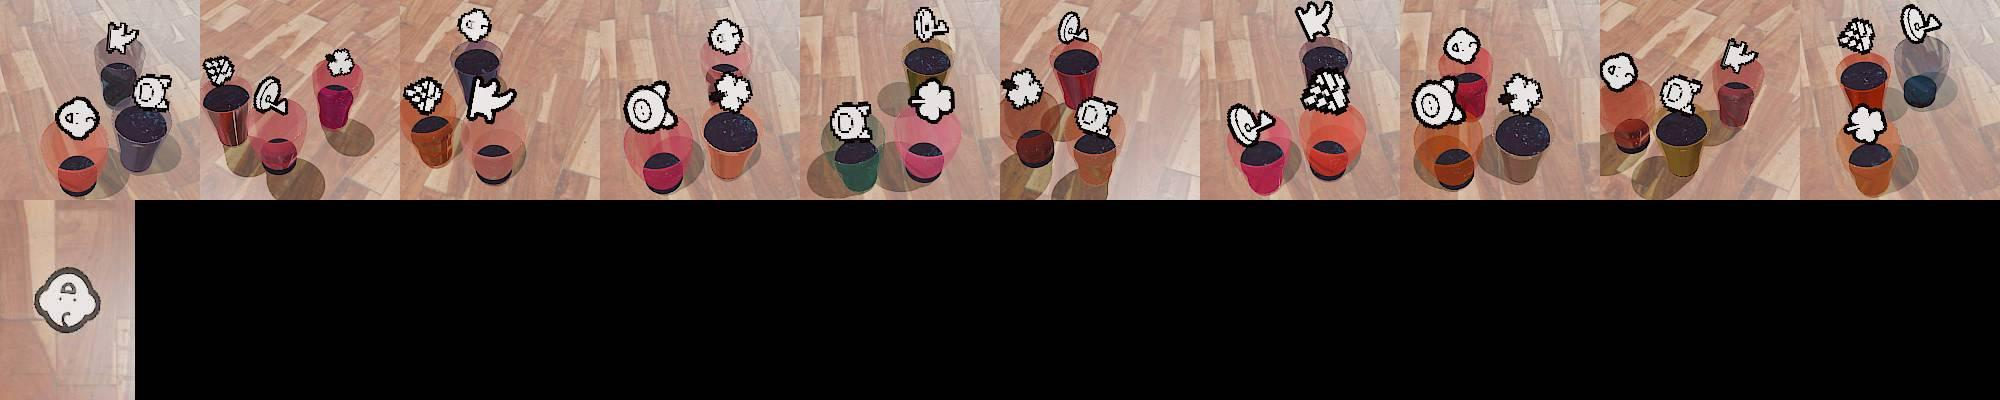icon: (33, 266, 103, 335), (622, 80, 680, 135), (1411, 78, 1464, 130), (463, 75, 518, 122), (1298, 68, 1351, 115), (55, 96, 101, 143), (909, 78, 957, 122), (1227, 102, 1274, 146), (828, 99, 875, 144), (1499, 73, 1545, 117), (1074, 94, 1120, 138), (712, 70, 755, 115), (1001, 66, 1046, 110), (1658, 74, 1703, 117), (403, 74, 445, 116), (1844, 103, 1888, 144), (1899, 4, 1943, 45), (1601, 51, 1640, 93), (1295, 0, 1334, 41), (134, 73, 173, 112), (1441, 27, 1482, 65), (253, 74, 288, 116), (1719, 38, 1758, 75), (912, 6, 950, 43), (1838, 17, 1875, 54), (455, 6, 491, 42), (709, 18, 744, 55), (1057, 10, 1092, 46), (106, 20, 140, 55), (203, 55, 235, 87), (324, 47, 355, 76)
